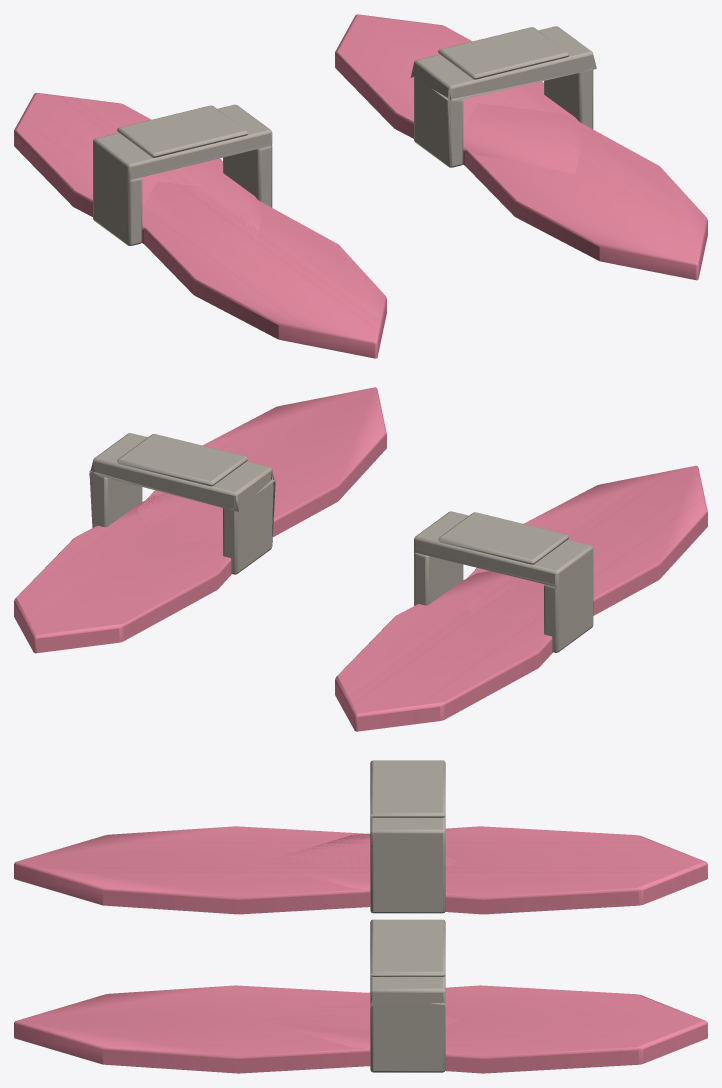
The model's file is Dep_Khach.glb.
3 views of the same model, one above another, from view 1: azimuth 30°, elevation 25°; view 2: azimuth 150°, elevation 25°; view 3: azimuth 270°, elevation 25° (orthographic).
Parts seen in each view (by area): view 1: geometry_0; view 2: geometry_0; view 3: geometry_0.
Boxes of the visible parts, <box> form: geometry_0: <box>14,14,707,358</box>; geometry_0: <box>14,387,707,731</box>; geometry_0: <box>14,760,707,1073</box>.
Bounding box in the file's own units: 0.2915 × 0.052 × 0.3687.
Materials: 1 (1 with a texture image).
